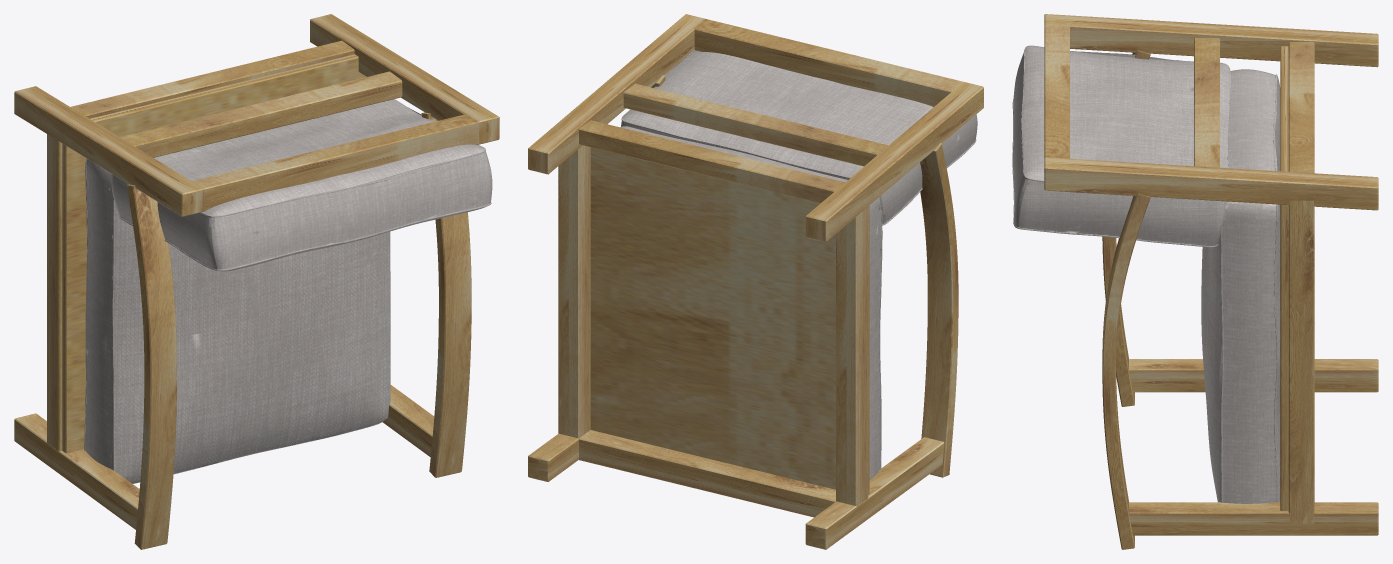
File: chair.obj
3 renders of one model, left to right at view 1: azimuth 30°, elevation 25°; view 2: azimuth 150°, elevation 25°; view 3: azimuth 270°, elevation 25°, orthographic. The views are drawn at different scales.
Bounding box in the file's own units: 0.875 × 1 × 0.8684.
Materials: 2 (2 with a texture image).
